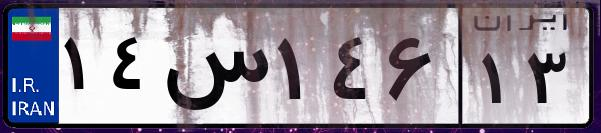1: (270, 28, 330, 110), (57, 26, 110, 100), (475, 38, 525, 113)
3: (525, 38, 570, 115)
4: (330, 28, 385, 110), (110, 28, 158, 98)
6: (385, 28, 445, 110)
س: (158, 20, 270, 120)
